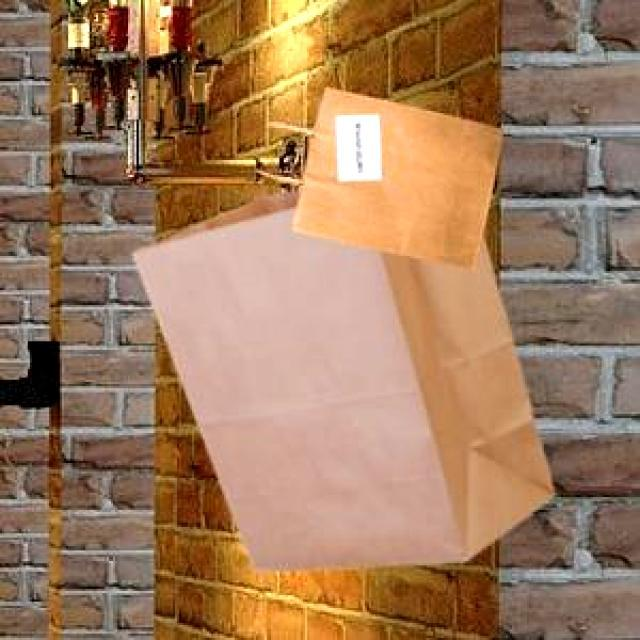Paper_Bag: (129, 186, 552, 568), (259, 84, 500, 268)
